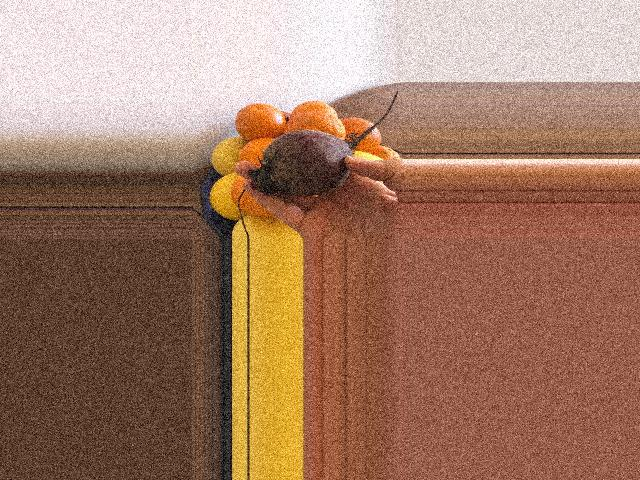beet: (250, 91, 397, 196)
